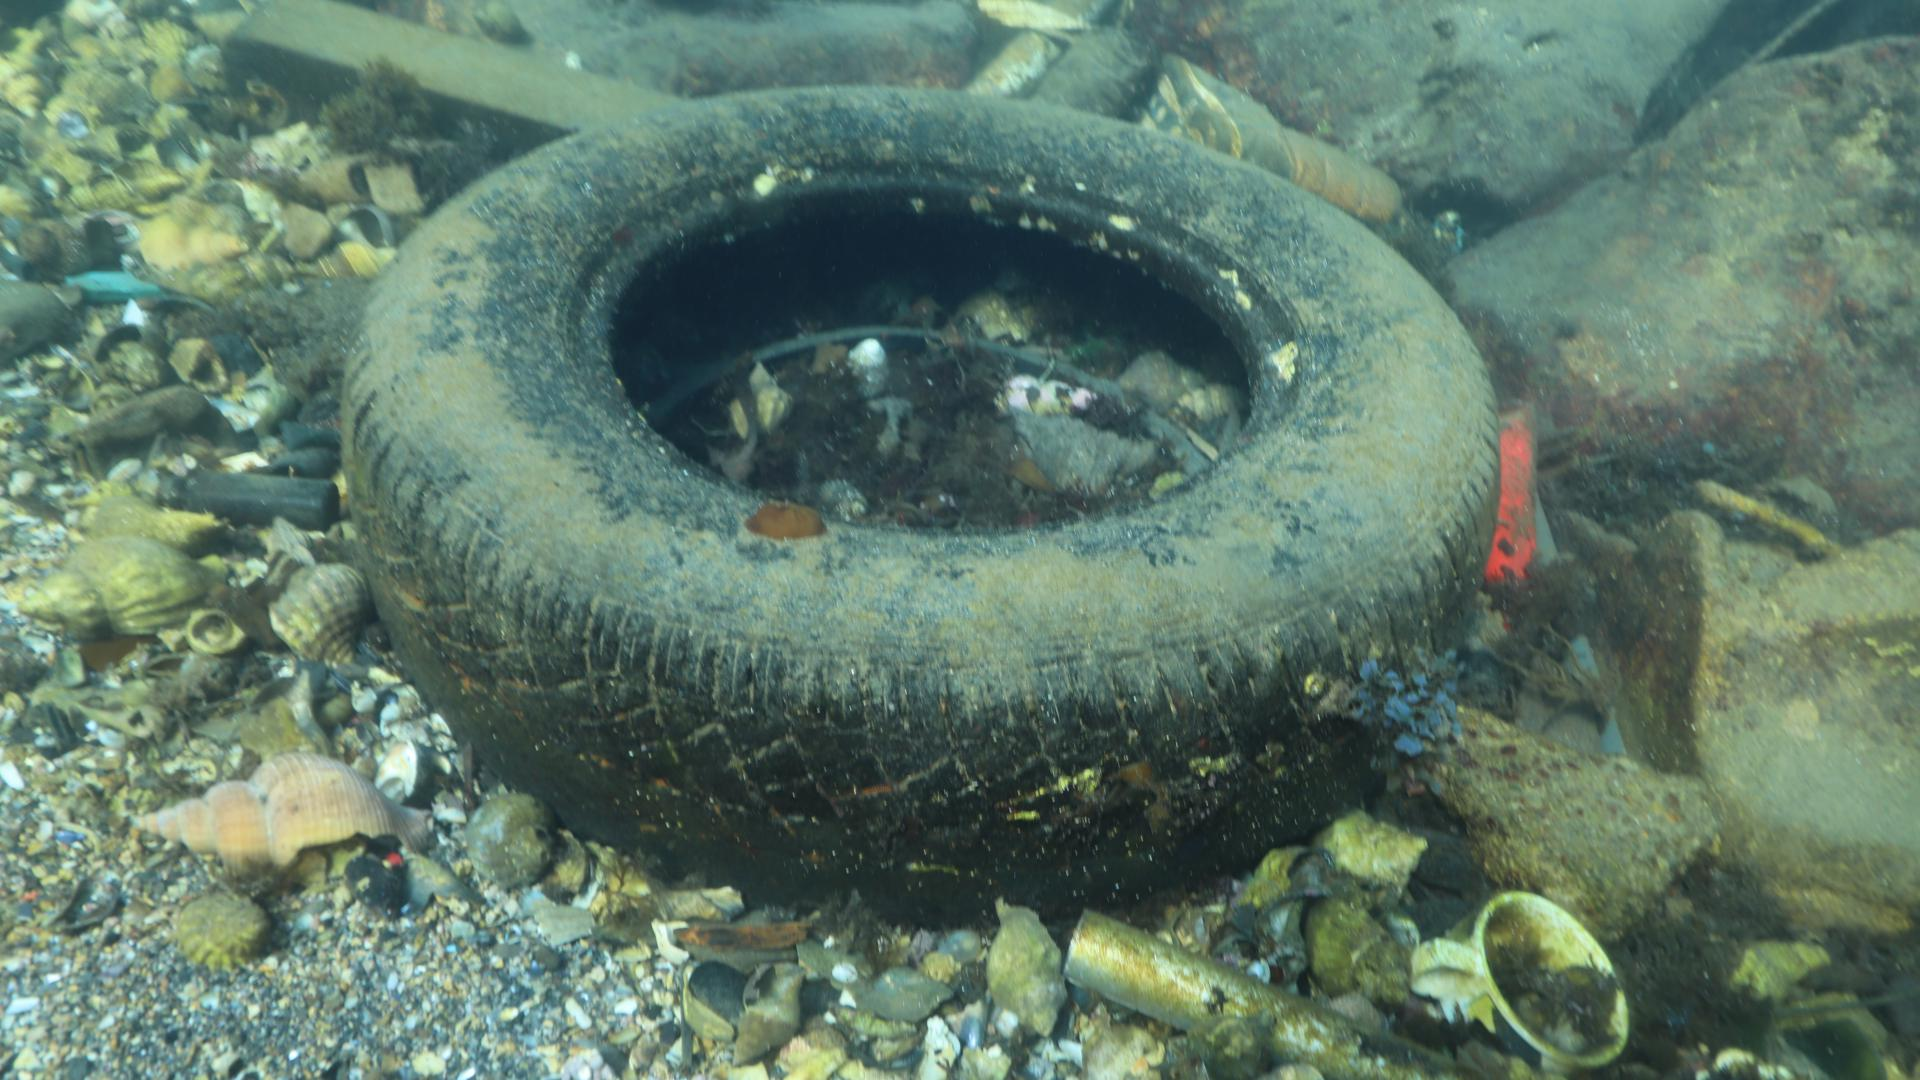tire: (334, 78, 1498, 920)
wood: (216, 0, 688, 149)
